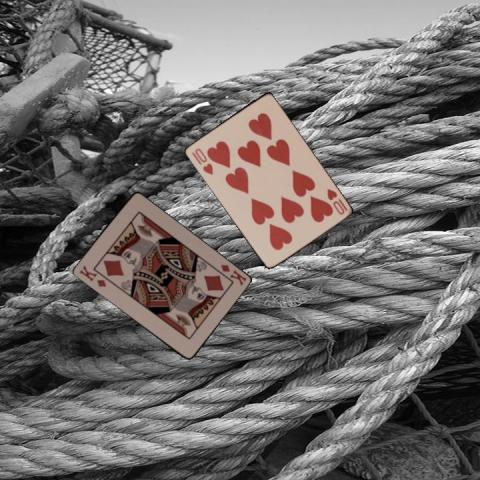10h: (188, 145, 214, 177), (323, 185, 349, 216)
Kd: (76, 262, 107, 288), (218, 262, 248, 288)
